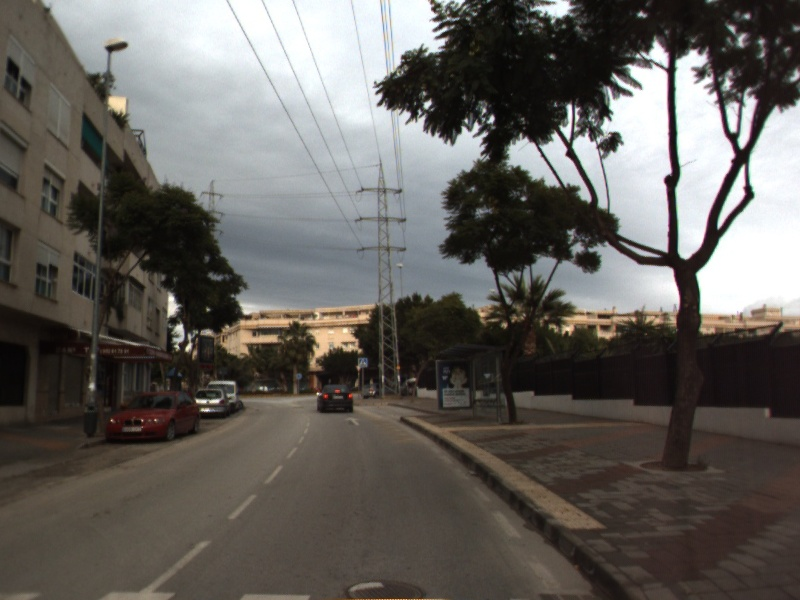STRAIGHT: (343, 415, 363, 427)
